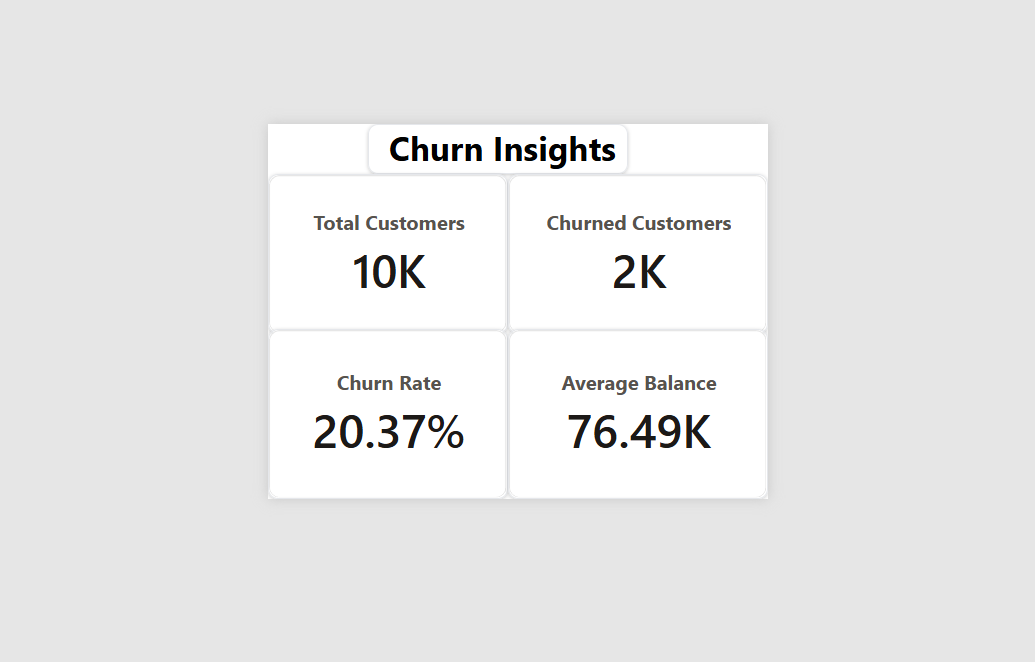

What the dashboard file says about the page in this screenshot:
{"tool":"powerbi","page":{"name":"Churn Insights Tooltip","canvas":[400,300],"ordinal":3},"visuals":[{"type":"textbox","box":[80,0,208,40],"z":0},{"type":"cardVisual","fields":{"Data":["FactCustomer.Total Customers"]},"box":[0,40,192,128],"z":1000},{"type":"cardVisual","fields":{"Data":["FactCustomer.Churned Customers"]},"box":[192,40,208,128],"z":2000},{"type":"cardVisual","fields":{"Data":["FactCustomer.Churn Rate"]},"box":[0,164,192,136],"z":3000},{"type":"cardVisual","fields":{"Data":["FactCustomer.Average Balance"]},"box":[192,164,208,136],"z":4000}]}

Visuals, with their boxes on the page's 400x300 design canvas (x1, y1, x2, y2). These are canvas units, not pixel positions in the 1035x662 screenshot, which may show the page scaled, cropped or inside an application window:
textbox: [left=80, top=0, right=288, bottom=40]
cardVisual - FactCustomer.Total Customers: [left=0, top=40, right=192, bottom=168]
cardVisual - FactCustomer.Churned Customers: [left=192, top=40, right=400, bottom=168]
cardVisual - FactCustomer.Churn Rate: [left=0, top=164, right=192, bottom=300]
cardVisual - FactCustomer.Average Balance: [left=192, top=164, right=400, bottom=300]
